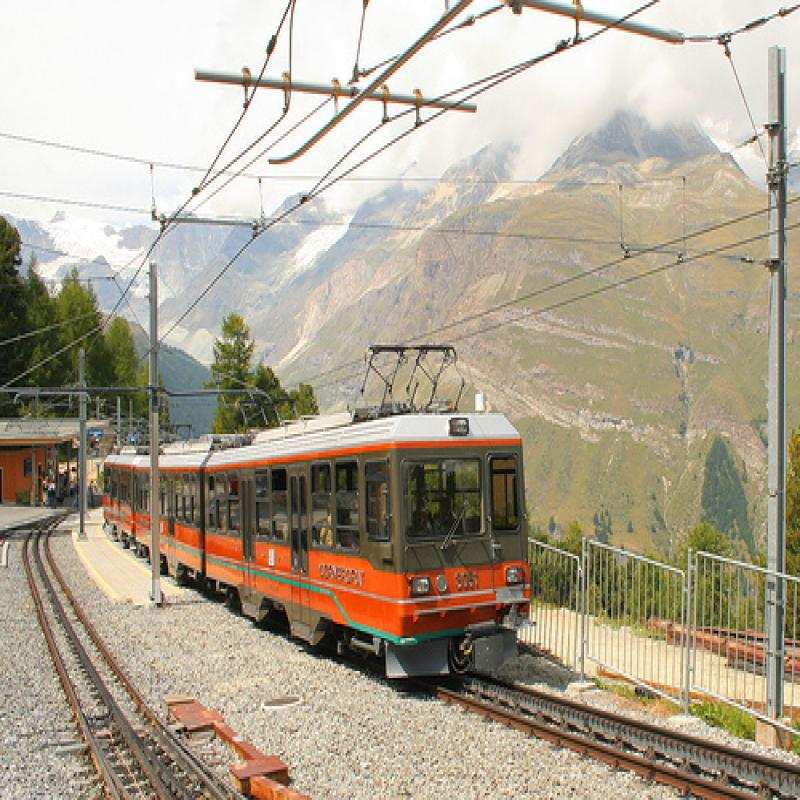train: (100, 344, 534, 684)
